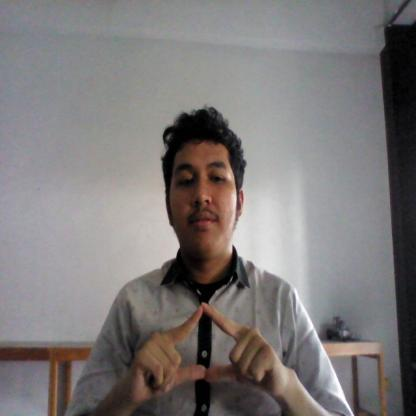A: (128, 302, 286, 401)
